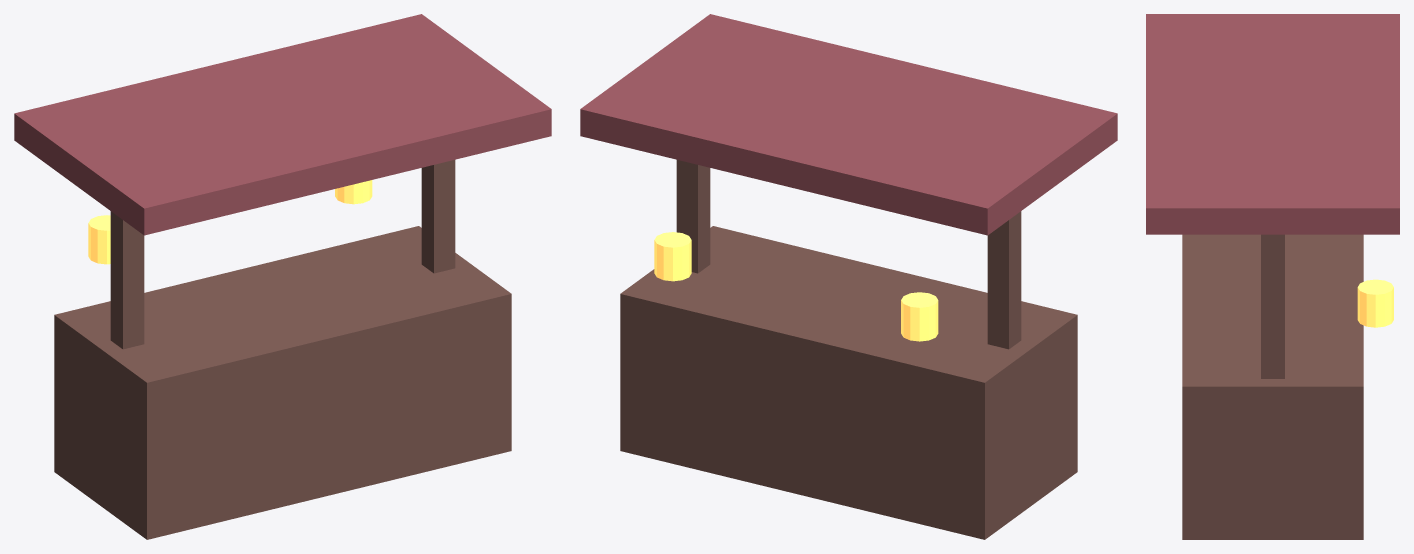
Rendered from tea_stall_blockout.glb.
The picture shows the model from 3 angles, left to right: view 1: azimuth 30°, elevation 25°; view 2: azimuth 150°, elevation 25°; view 3: azimuth 270°, elevation 25°; orthographic projection. The views are drawn at different scales.
Parts seen in each view (by area): view 1: Stall_Counter, Stall_Canopy, Stall_Post, Stall_Post.001, Stall_Lantern, Stall_Lantern.001; view 2: Stall_Counter, Stall_Canopy, Stall_Post, Stall_Post.001, Stall_Lantern, Stall_Lantern.001; view 3: Stall_Canopy, Stall_Counter, Stall_Post.001, Stall_Lantern.001.
Part boxes in pixels (x1,y1,x2,y2): Stall_Counter: [54, 226, 511, 539]; Stall_Canopy: [14, 14, 551, 235]; Stall_Post: [110, 211, 144, 349]; Stall_Post.001: [421, 160, 455, 273]; Stall_Lantern: [88, 215, 110, 264]; Stall_Lantern.001: [335, 180, 372, 204]; Stall_Counter: [620, 226, 1077, 539]; Stall_Canopy: [580, 14, 1117, 235]; Stall_Post: [987, 211, 1021, 349]; Stall_Post.001: [676, 160, 710, 273]; Stall_Lantern: [901, 292, 938, 341]; Stall_Lantern.001: [654, 232, 691, 281]; Stall_Canopy: [1146, 14, 1399, 234]; Stall_Counter: [1182, 234, 1363, 539]; Stall_Post.001: [1261, 234, 1284, 378]; Stall_Lantern.001: [1357, 279, 1393, 327].
Bounding box in the file's own units: 3.8 × 3.12 × 2.1.
